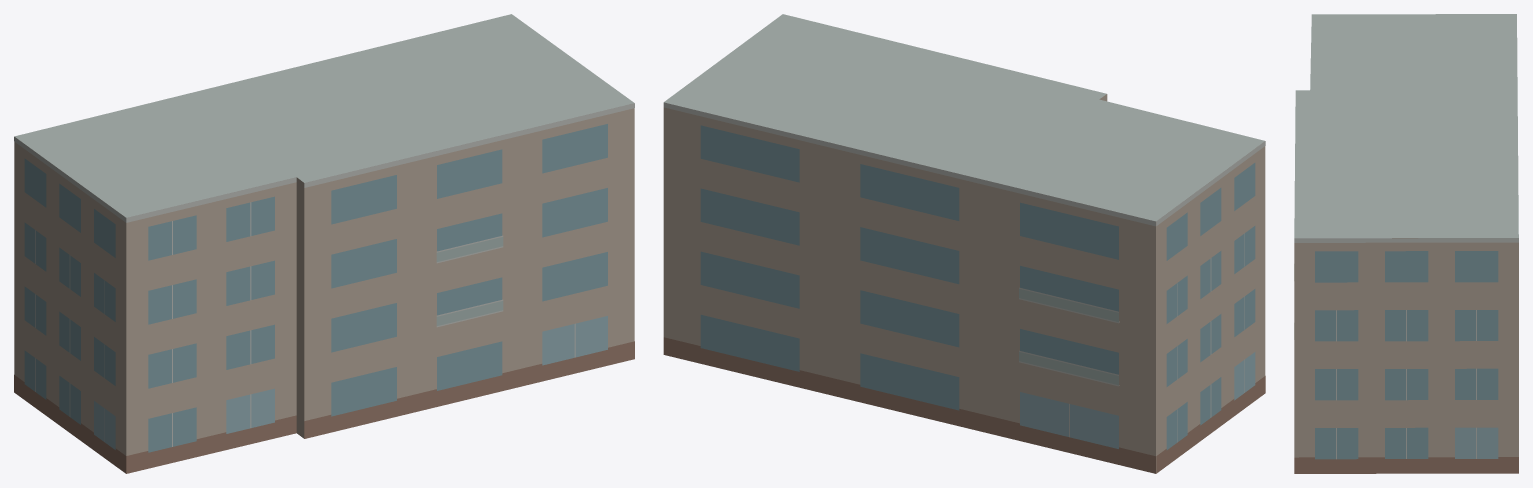
The model's file is survey-upis-32926952.glb.
The picture shows the model from 3 angles, left to right: view 1: azimuth 30°, elevation 25°; view 2: azimuth 150°, elevation 25°; view 3: azimuth 270°, elevation 25°; orthographic projection. The views are drawn at different scales.
Visible parts, largest first — view 1: survey-upis-32926952.tmp; view 2: survey-upis-32926952.tmp; view 3: survey-upis-32926952.tmp.
Part boxes in pixels (left/top/right/bottom): survey-upis-32926952.tmp: left=14, top=14, right=634, bottom=473; survey-upis-32926952.tmp: left=663, top=14, right=1265, bottom=473; survey-upis-32926952.tmp: left=1294, top=14, right=1518, bottom=473.
Size of the model in its own units: 25.33 by 12.4 by 10.73.
